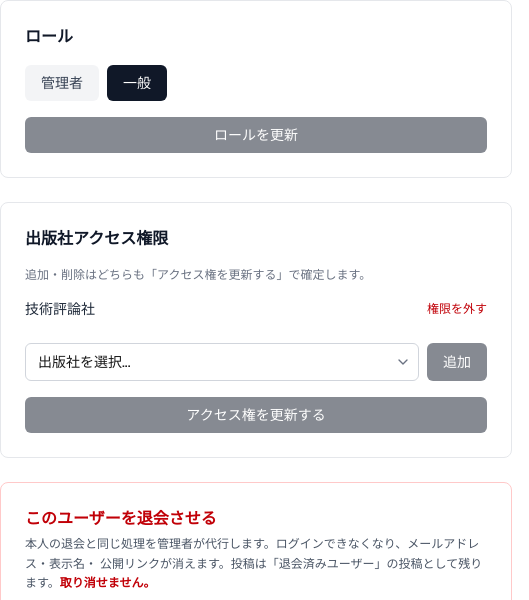
Test: AdminUserEditor › 出版社アクセスの追加 › サーバーが失敗を返したら一覧に足さず、エラーを表示する
Select "オライリー" in the dropdown at {"x": 222, "y": 362}, box [25, 343, 419, 381]
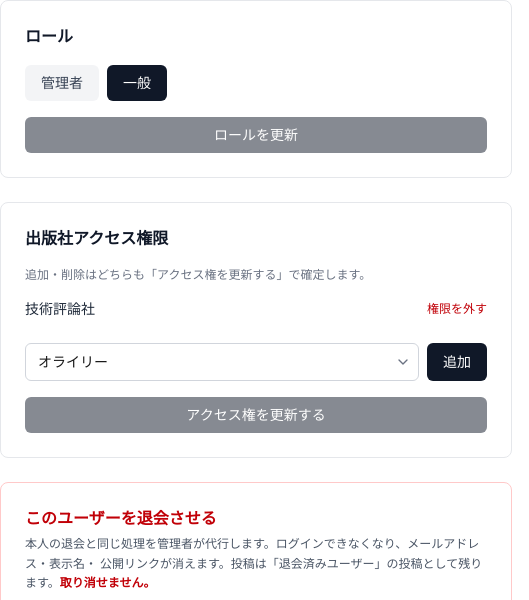
Click the button "追加" at {"x": 457, "y": 362}, box [427, 343, 487, 381]
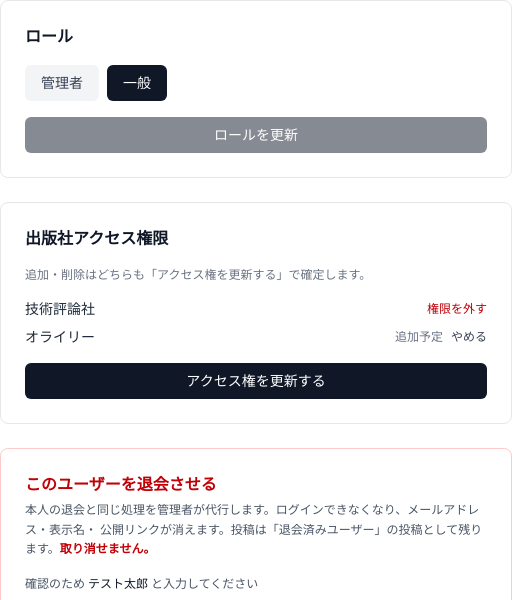
Click the button "アクセス権を更新する" at {"x": 256, "y": 381}, box [25, 363, 487, 399]
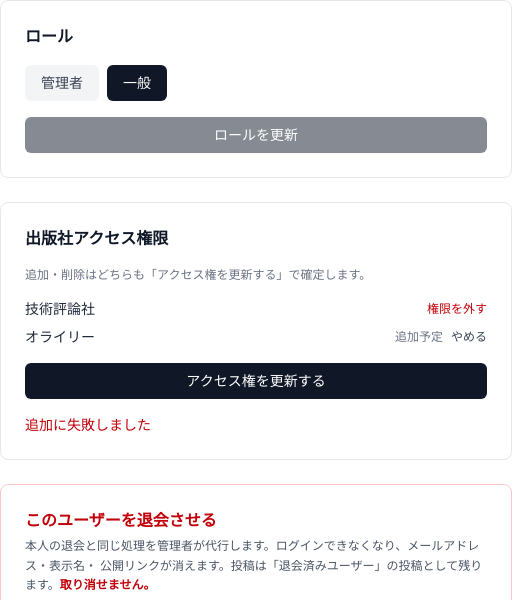
Expected: the text "追加に失敗しました" is shown, [25, 416, 151, 434]
